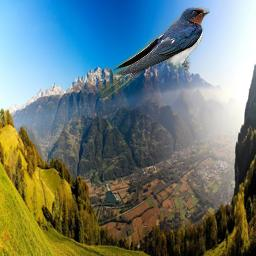Swallow: (98, 7, 210, 101)
